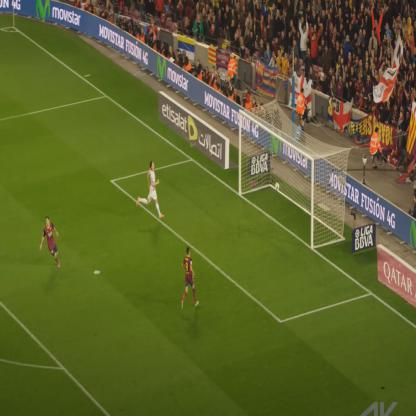goal: (234, 99, 330, 267)
